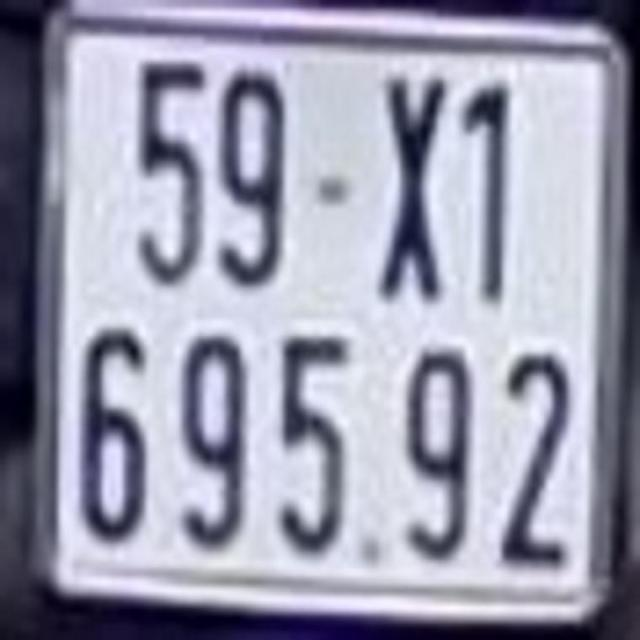1: (458, 76, 509, 300)
2: (499, 352, 570, 562)
5: (129, 56, 210, 286), (275, 329, 349, 554)
6: (77, 321, 149, 546)
9: (216, 63, 290, 284), (174, 330, 247, 549), (401, 339, 471, 560)
X: (373, 70, 448, 300)
